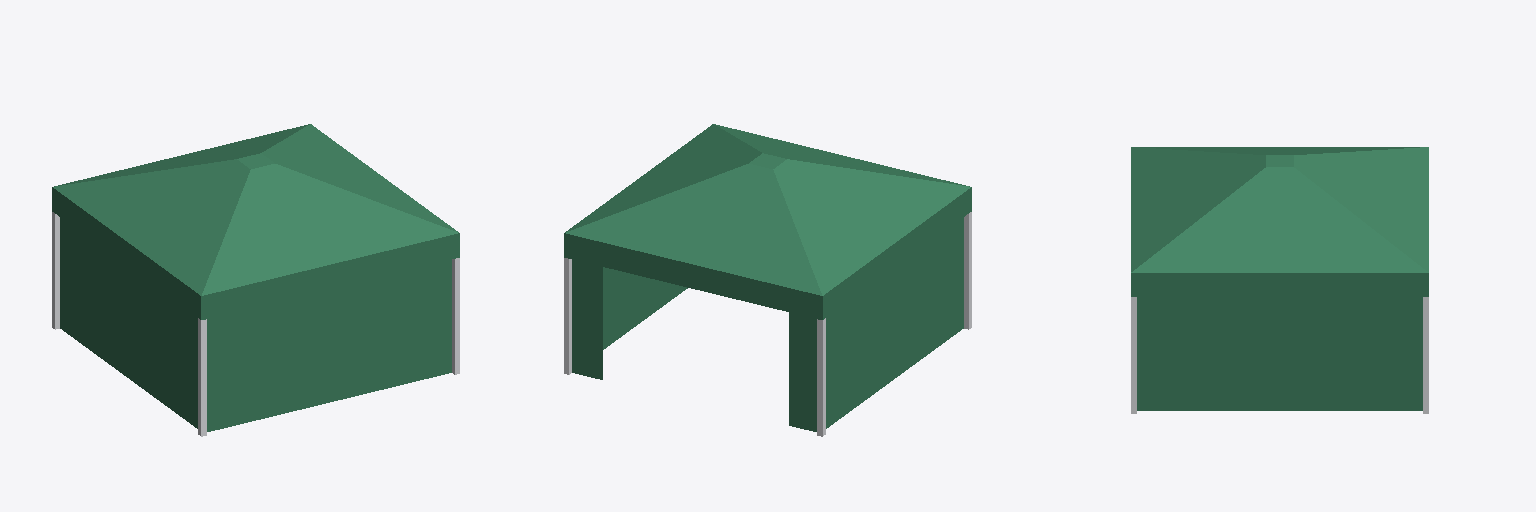
The model's file is tentClosed.obj.
The picture shows the model from 3 angles: view 1: azimuth 30°, elevation 25°; view 2: azimuth 150°, elevation 25°; view 3: azimuth 270°, elevation 25°; orthographic projection.
Parts seen in each view (by area): view 1: tentClosed; view 2: tentClosed; view 3: tentClosed.
Boxes of the visible parts, <box> form: tentClosed: <box>52,124,459,436</box>; tentClosed: <box>564,124,971,436</box>; tentClosed: <box>1131,147,1428,413</box>.
Size of the model in its own units: 1 by 0.7 by 1.